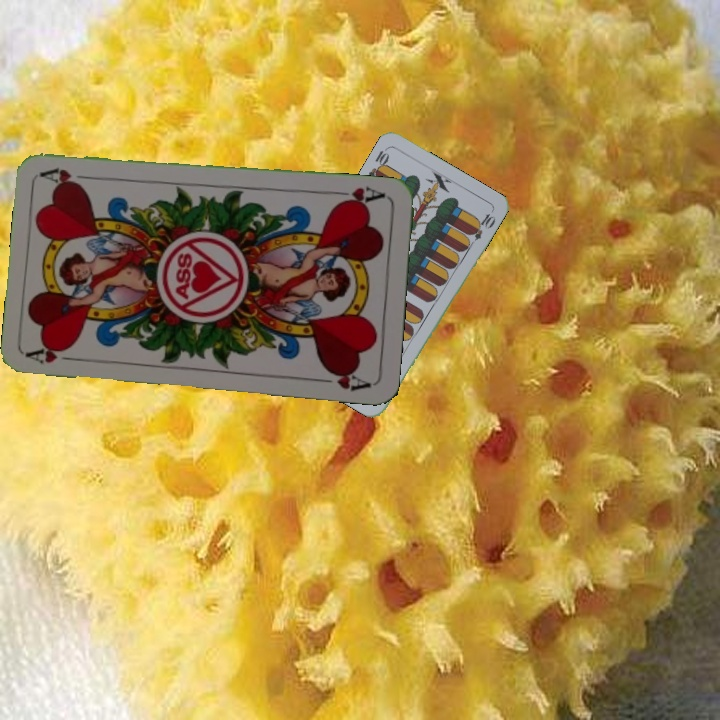E10: (364, 144, 392, 183)
HA: (330, 182, 388, 209), (25, 340, 84, 366)
